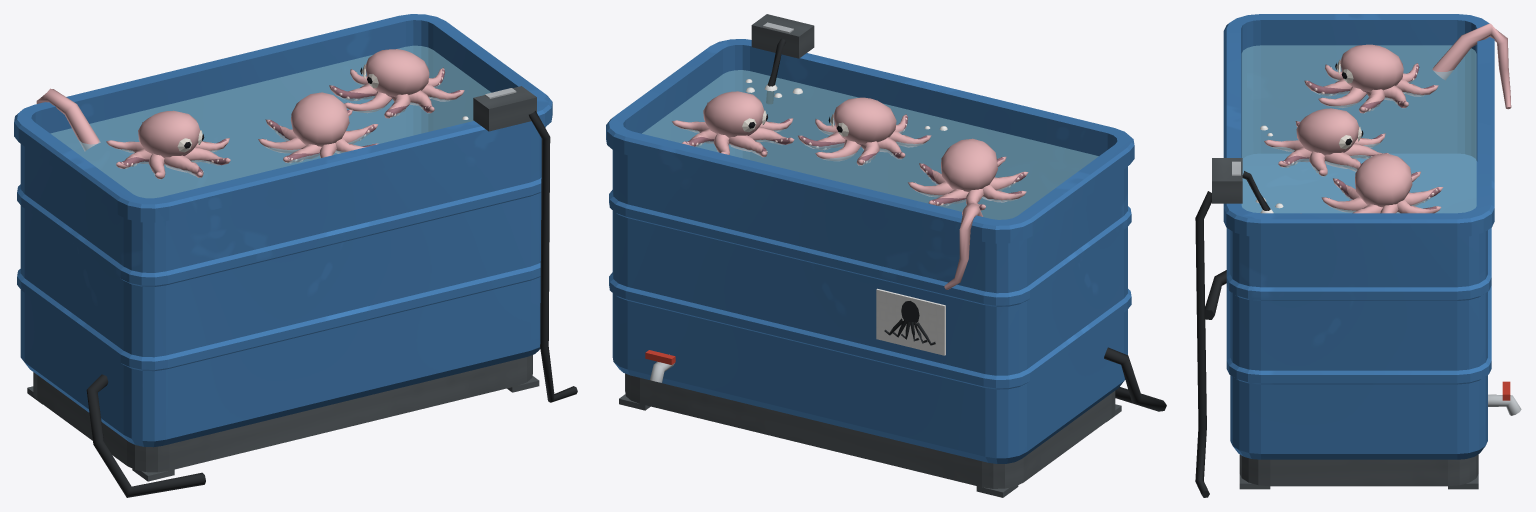
The model's file is octopus_storage.glb.
The picture shows the model from 3 angles, left to right: view 1: azimuth 30°, elevation 25°; view 2: azimuth 150°, elevation 25°; view 3: azimuth 270°, elevation 25°; orthographic projection.
Parts seen in each view (by area): view 1: tank_body, pump, octopus_2, octopus_0, octopus_1, tentacle; view 2: tank_body, octopus_1, octopus_0, octopus_2, pump, tentacle; view 3: tank_body, pump, octopus_0, octopus_1, octopus_2, tentacle.
Part boxes in pixels (<box>): tank_body: <box>14,14,552,481</box>; pump: <box>86,86,577,497</box>; octopus_2: <box>329,49,464,118</box>; octopus_0: <box>106,110,230,179</box>; octopus_1: <box>258,92,378,163</box>; tentacle: <box>36,88,100,151</box>; tank_body: <box>606,39,1134,497</box>; octopus_1: <box>798,97,931,165</box>; octopus_0: <box>908,138,1028,210</box>; octopus_2: <box>672,91,794,157</box>; pump: <box>751,14,1166,411</box>; tentacle: <box>944,203,982,289</box>; tank_body: <box>1223,14,1521,489</box>; pump: <box>1195,158,1270,497</box>; octopus_0: <box>1304,44,1438,113</box>; octopus_1: <box>1264,108,1388,176</box>; octopus_2: <box>1321,153,1443,213</box>; tentacle: <box>1432,23,1511,109</box>.
Size of the model in its own units: 1.67 by 1.09 by 1.06.
Materials: 9 (6 with a texture image).
